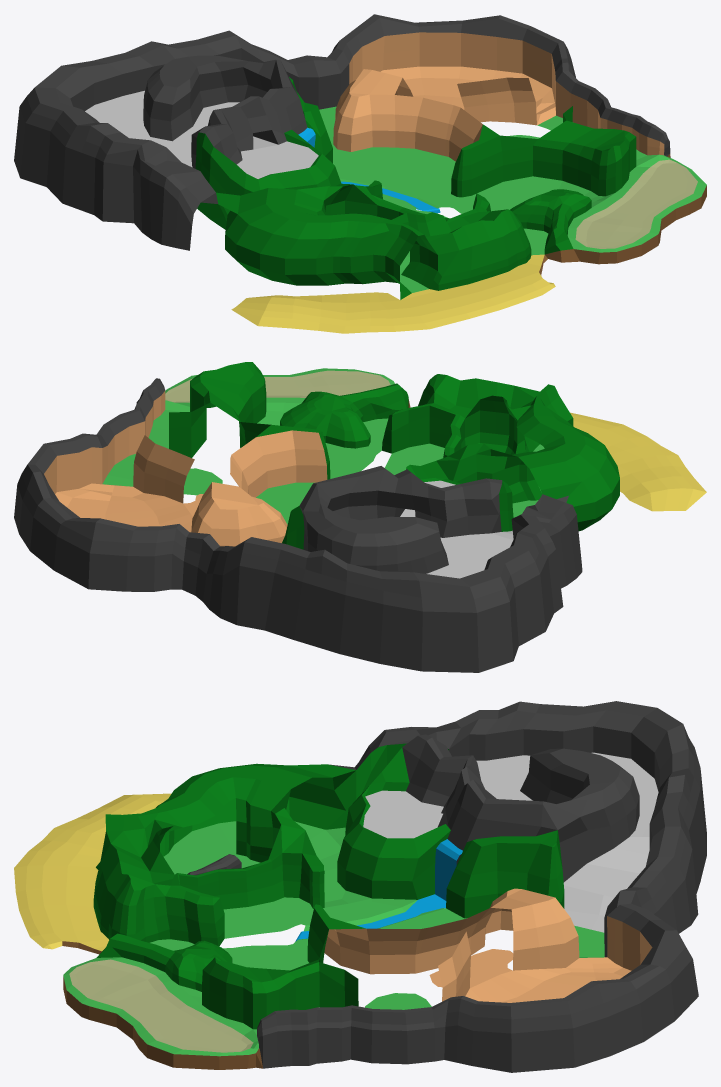
The model's file is island.glb.
The picture shows the model from 3 angles, top to bottom: view 1: azimuth 30°, elevation 25°; view 2: azimuth 150°, elevation 25°; view 3: azimuth 270°, elevation 25°; orthographic projection. The views are drawn at different scales.
Parts seen in each view (by area): view 1: Island, River; view 2: Island; view 3: Island, River.
Boxes of the visible parts, box(x1,y1,x2,y2) form: Island: box(14, 14, 706, 333); River: box(298, 127, 440, 213); Island: box(14, 362, 706, 672); Island: box(14, 701, 706, 1072); River: box(295, 839, 462, 941).
Bounding box in the file's own units: 190 × 33.04 × 189.
